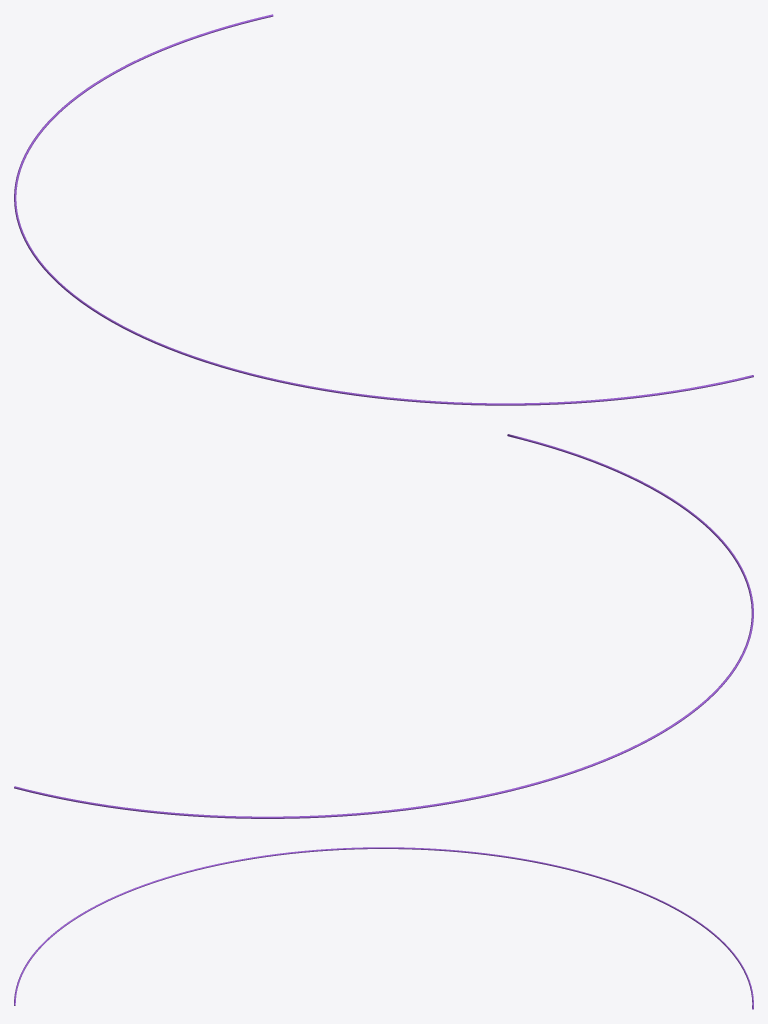
File: hulfLine2.glb
The picture shows the model from 3 angles, top to bottom: view 1: azimuth 30°, elevation 25°; view 2: azimuth 150°, elevation 25°; view 3: azimuth 270°, elevation 25°; orthographic projection. The views are drawn at different scales.
Visible parts, largest first — view 1: Circle015; view 2: Circle015; view 3: Circle015.
Boxes of the visible parts, left/top/right/bottom form: Circle015: left=14, top=14, right=753, bottom=405; Circle015: left=14, top=434, right=753, bottom=818; Circle015: left=14, top=847, right=753, bottom=1009.
Size of the model in its own units: 20.88 by 0.117 by 40.57.
